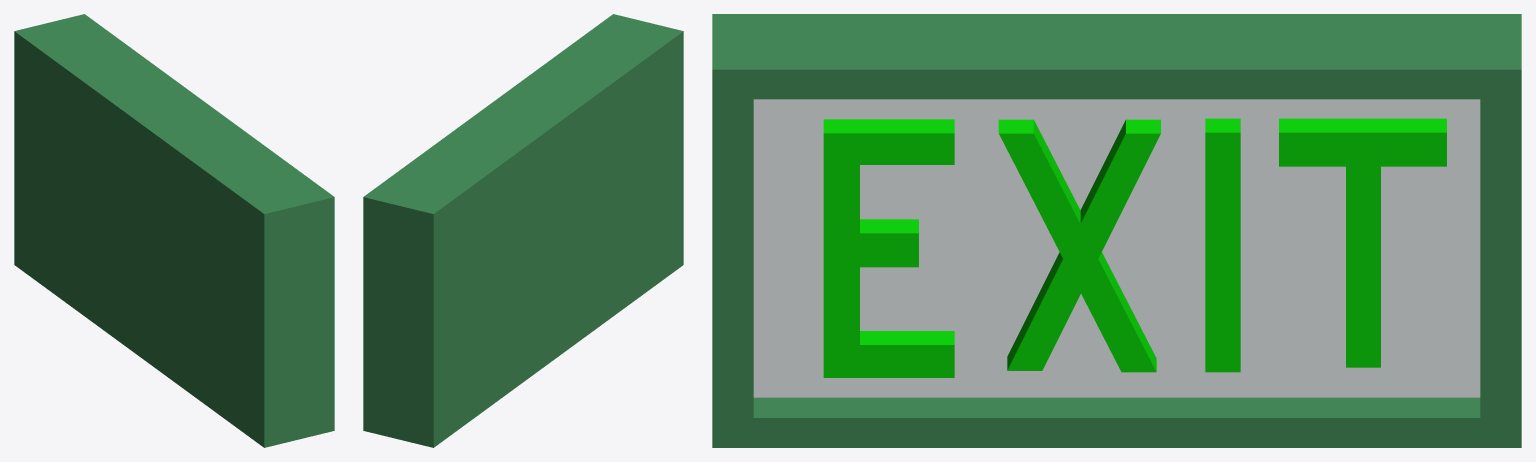
The model's file is Exit_sign.fbx.
3 renders of one model, left to right at view 1: azimuth 30°, elevation 25°; view 2: azimuth 150°, elevation 25°; view 3: azimuth 270°, elevation 25°, orthographic. The views are drawn at different scales.
Parts seen in each view (by area): view 1: Cube; view 2: Cube; view 3: Cube.
Boxes of the visible parts, x1,y1,x2,y2 form: Cube: (14, 14, 334, 447); Cube: (363, 14, 683, 447); Cube: (712, 14, 1521, 447).
Bounding box in the file's own units: 93.68 × 297 × 576.
